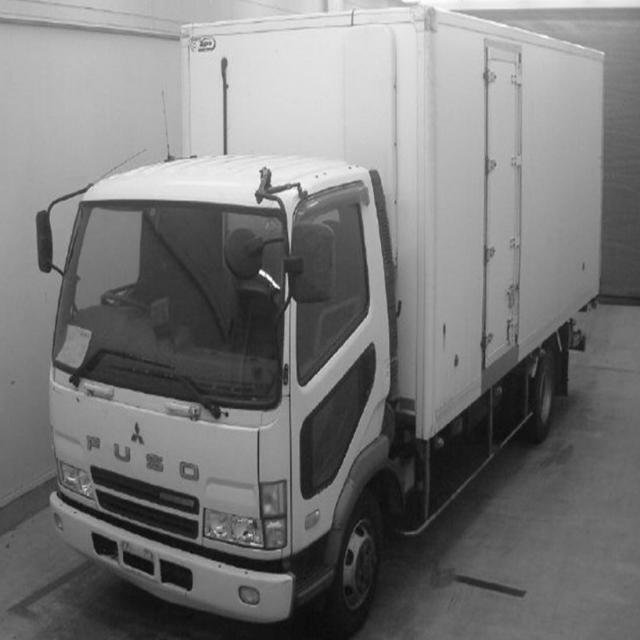truck: (16, 129, 450, 638)
